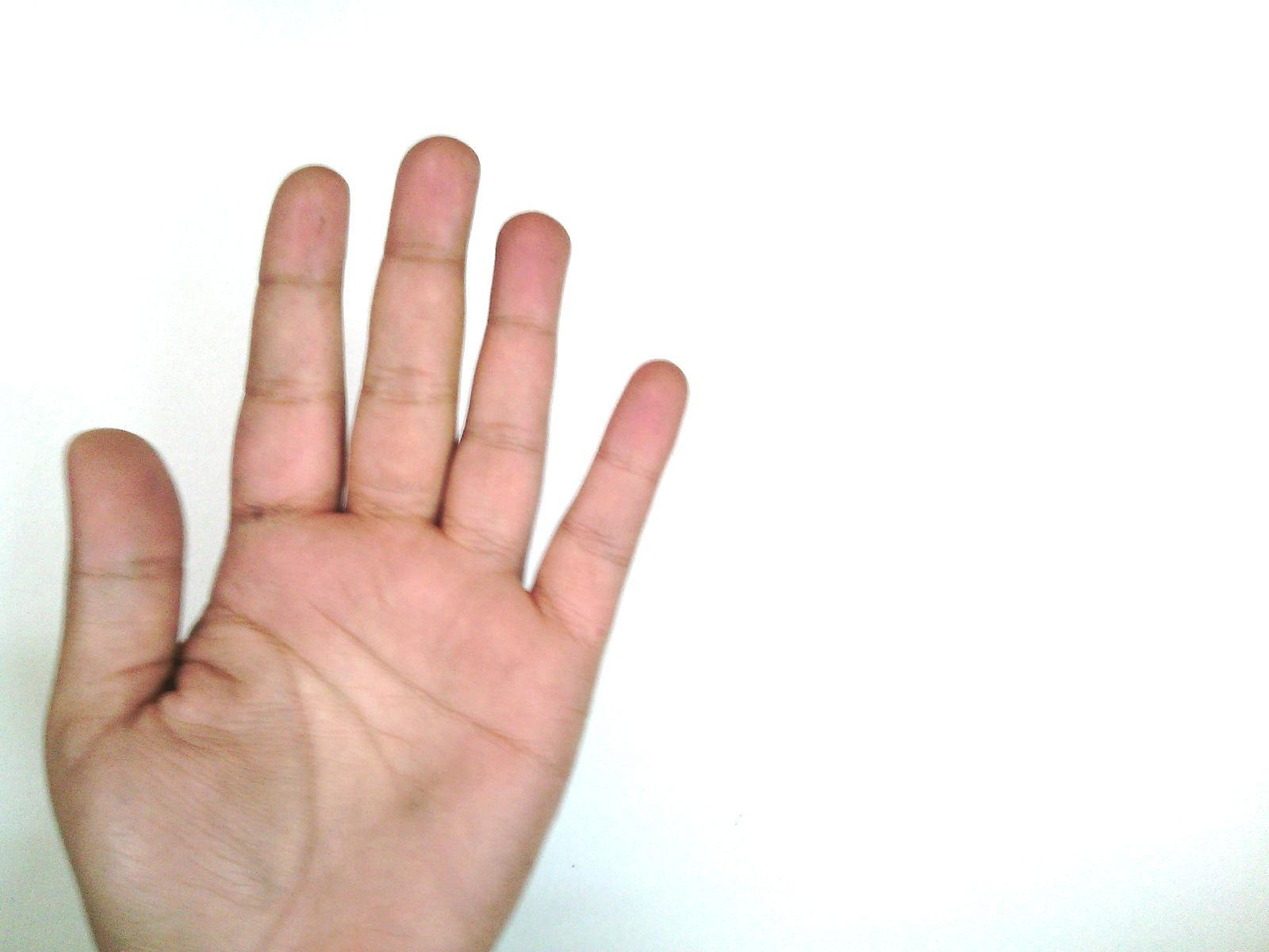open_palm: (41, 134, 692, 951)
